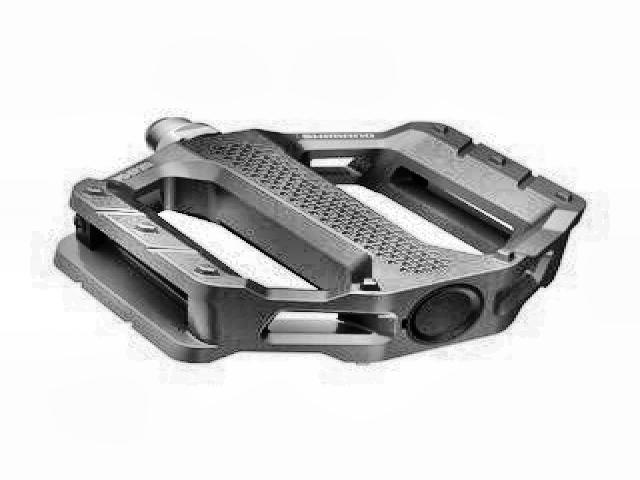pedal: (40, 112, 587, 368)
